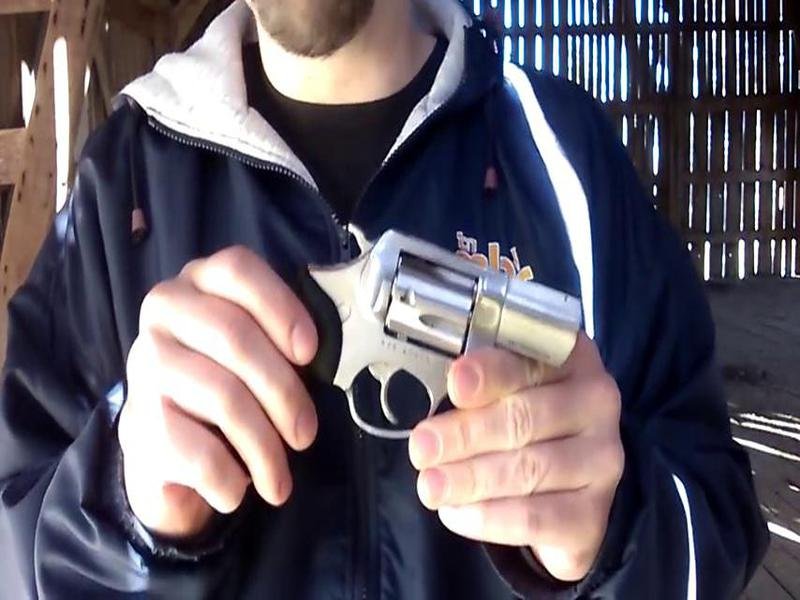Revolver: (291, 196, 609, 494)
